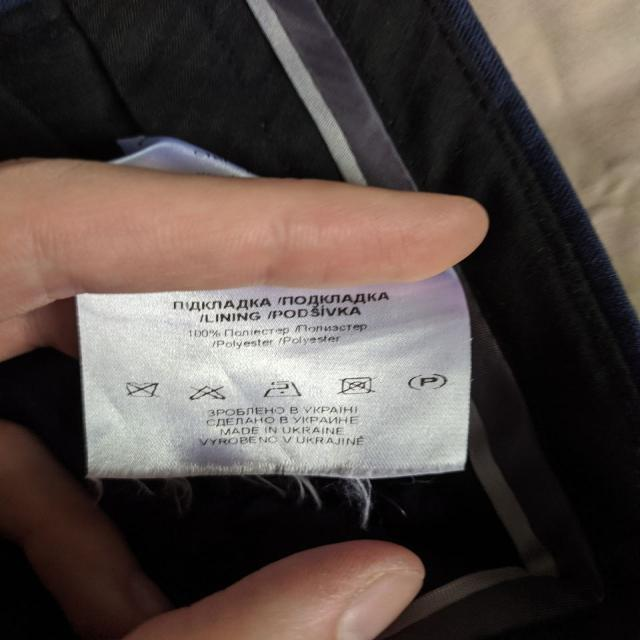DN_bleach: (189, 382, 227, 403)
DN_tumble_dry: (340, 371, 379, 397)
DN_wash: (124, 377, 163, 402)
dry_clean_any_solvent_except_trichloroethylene: (406, 369, 451, 394)
iron_low: (263, 377, 304, 399)
